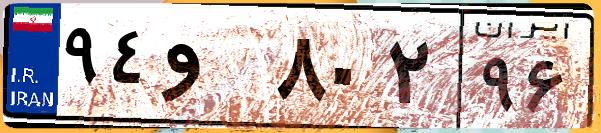0: (330, 28, 385, 110)
2: (385, 28, 445, 110)
4: (110, 28, 158, 98)
6: (525, 38, 570, 115)
8: (270, 28, 330, 110)
9: (57, 26, 110, 100), (475, 38, 525, 113)
و: (158, 20, 270, 120)
